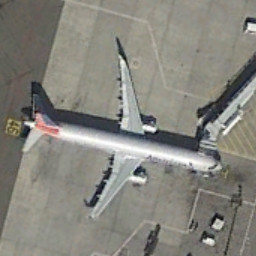Airplane: (19, 42, 230, 222)
